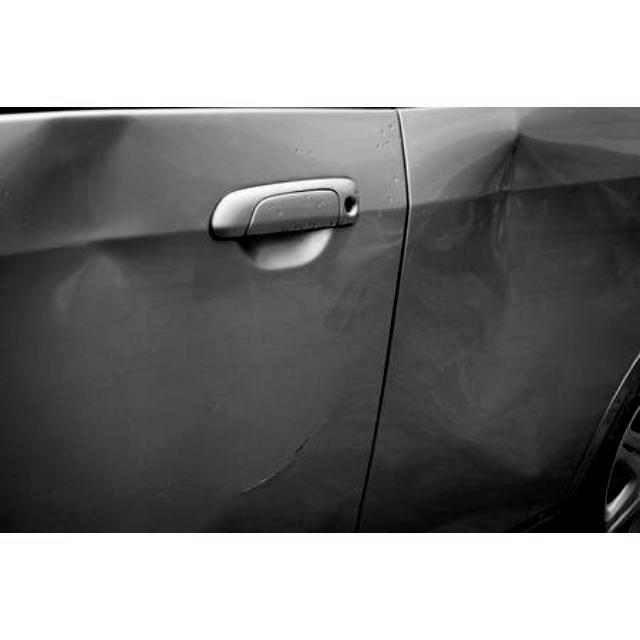doorouter-dent: (1, 112, 400, 532), (400, 112, 638, 532)
